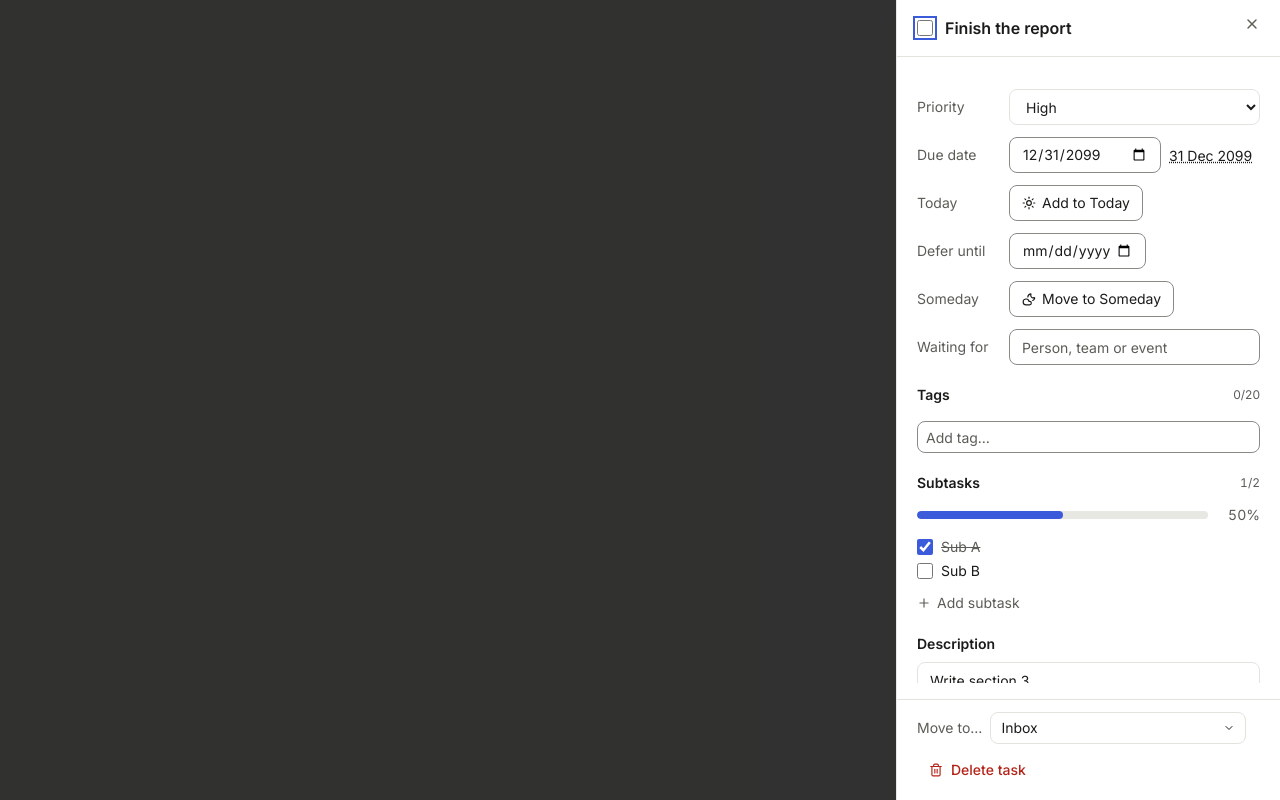
Test: TaskDrawer › clicking "Delete task" opens confirm dialog
Click the button "Delete task". click: (977, 770)
box: [917,752,1038,788]
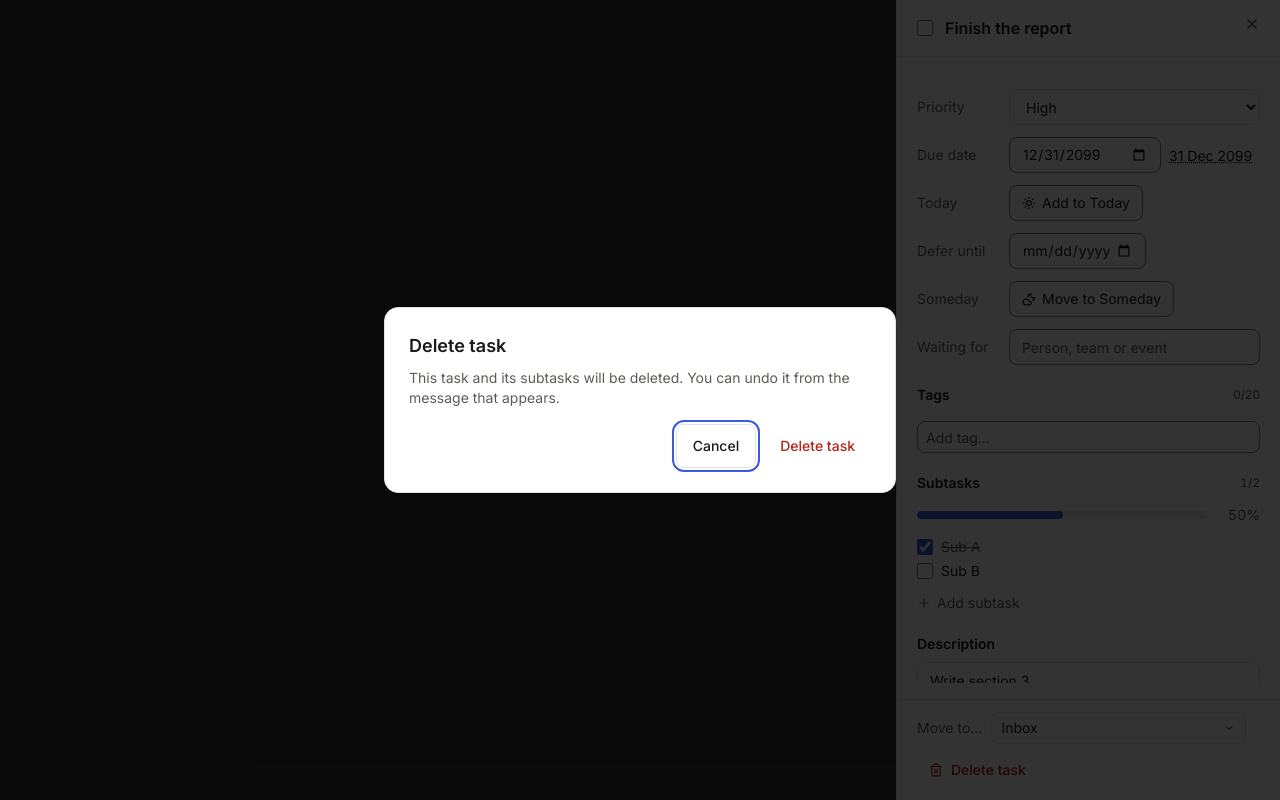
Check: the dialog that starts with "Delete task" is shown, box [384,307,896,493]
